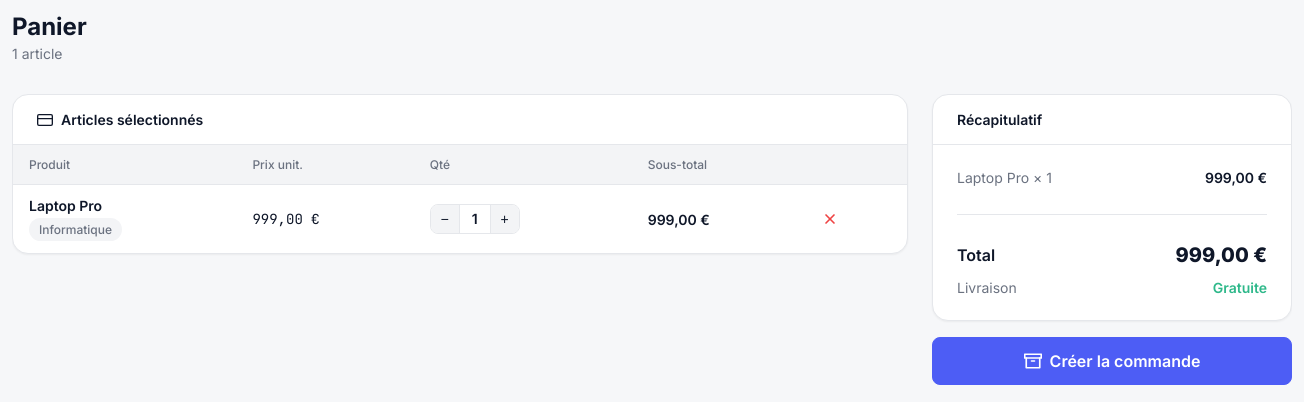
Test case: CartPage › increments quantity when + is clicked
The width and height of the screenshot is (1304, 402).
Expected: the text "Laptop Pro" is shown, x1=29 y1=197 x2=102 y2=214
Click the button "+".
click(505, 219)  # box x1=491 y1=205 x2=519 y2=233
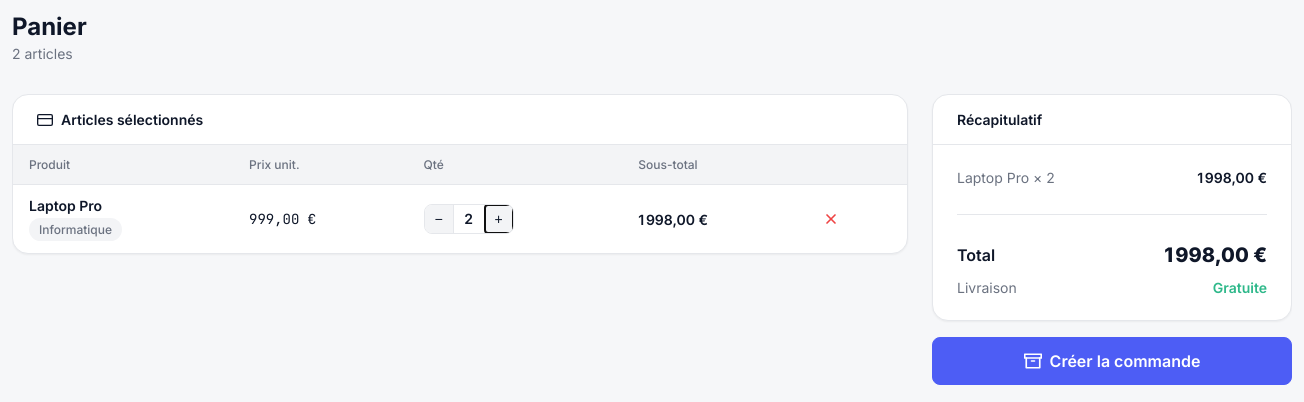
Now the text "2" is shown, box x1=452 y1=205 x2=484 y2=233
